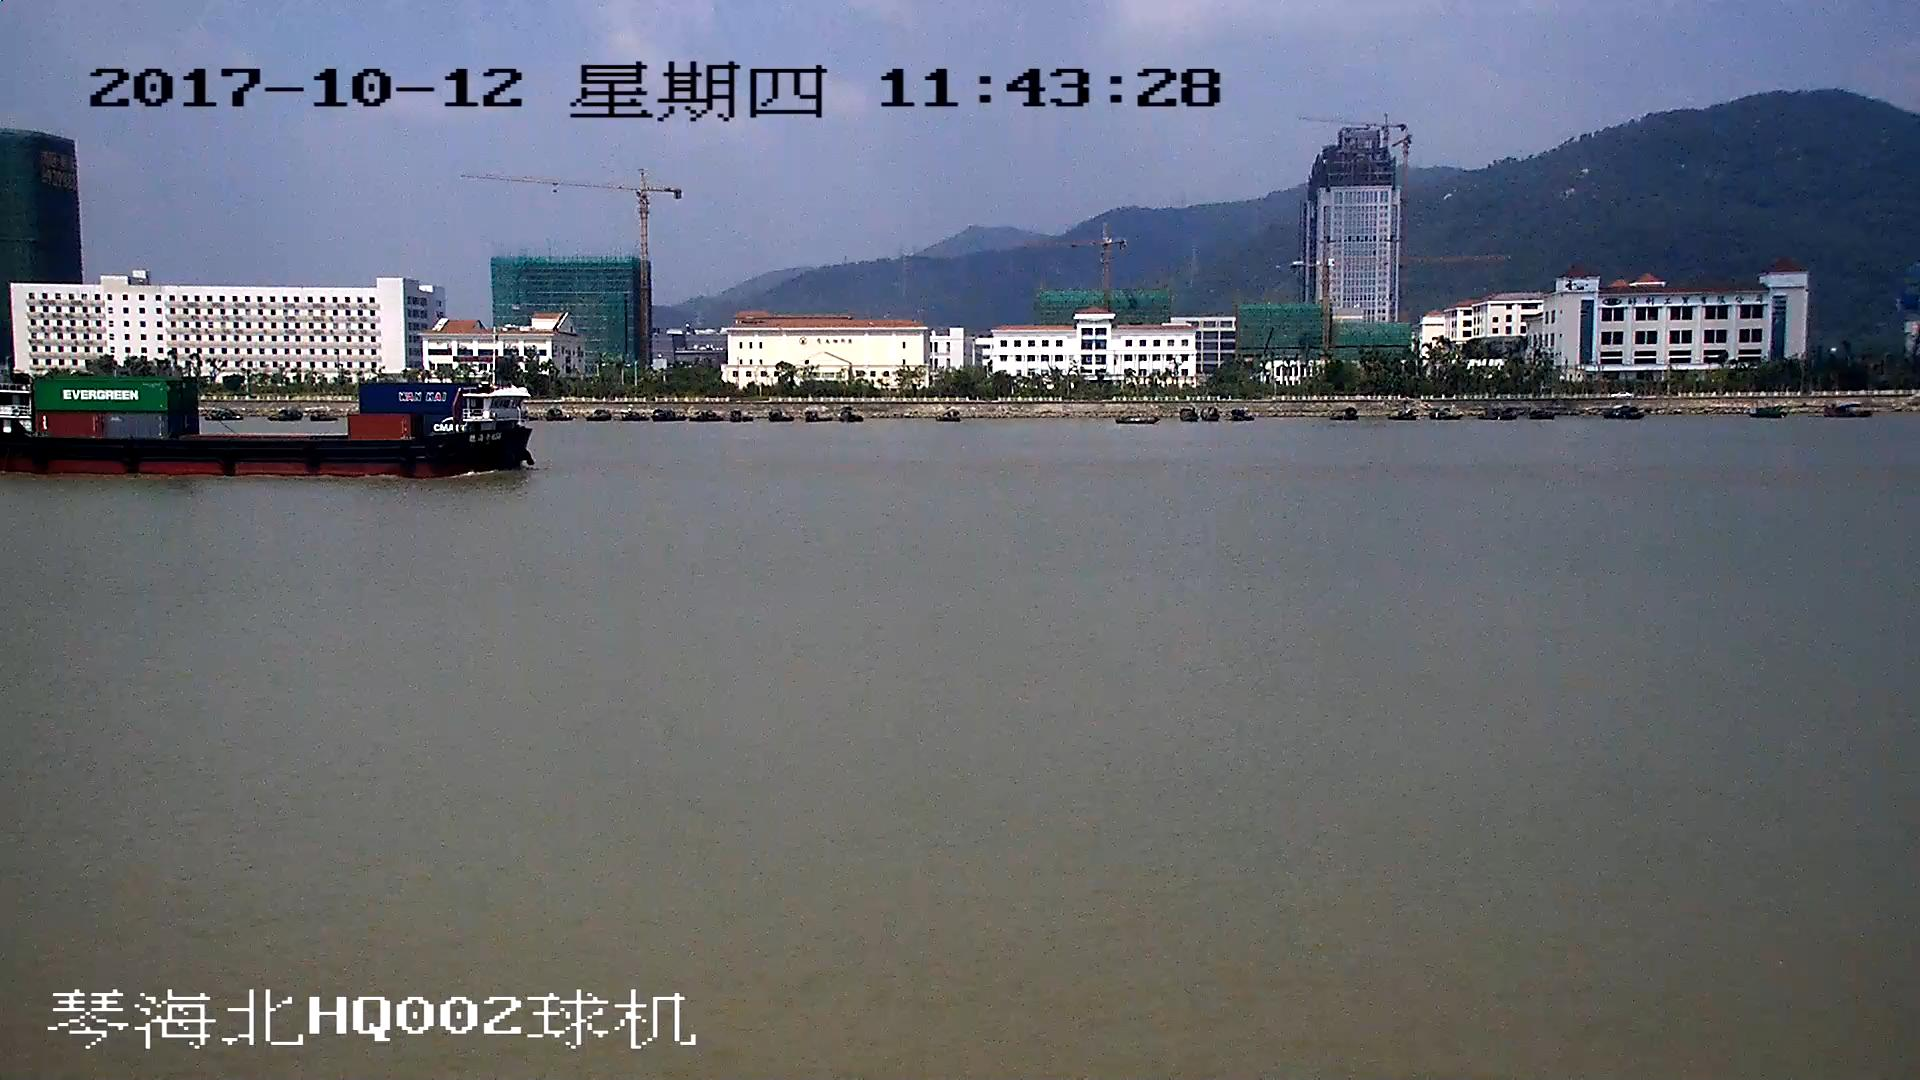container ship: (1, 373, 533, 476)
